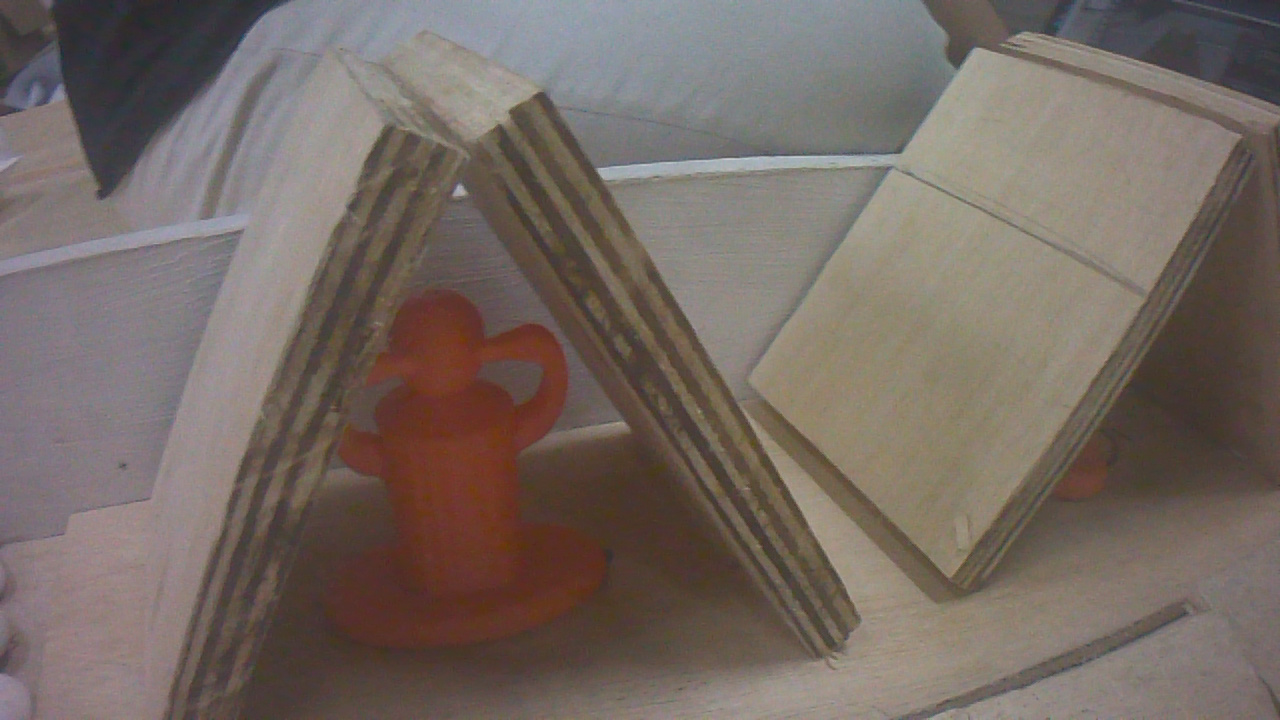real: (315, 286, 611, 655)
